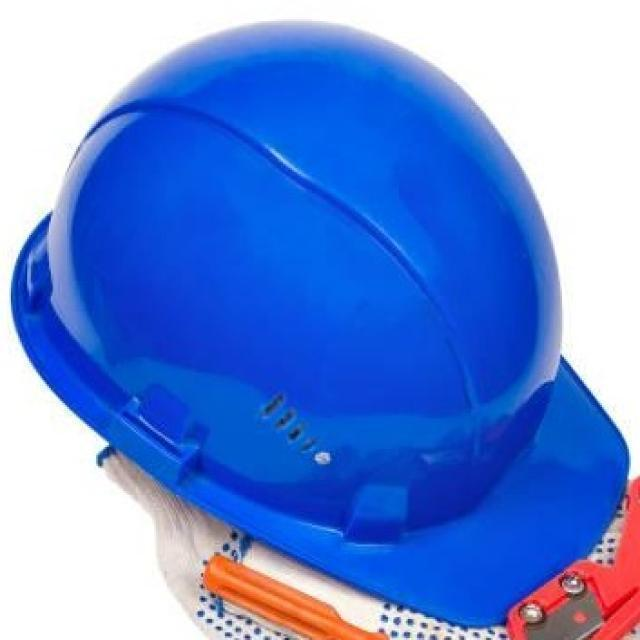blue helmet: (31, 20, 623, 584)
